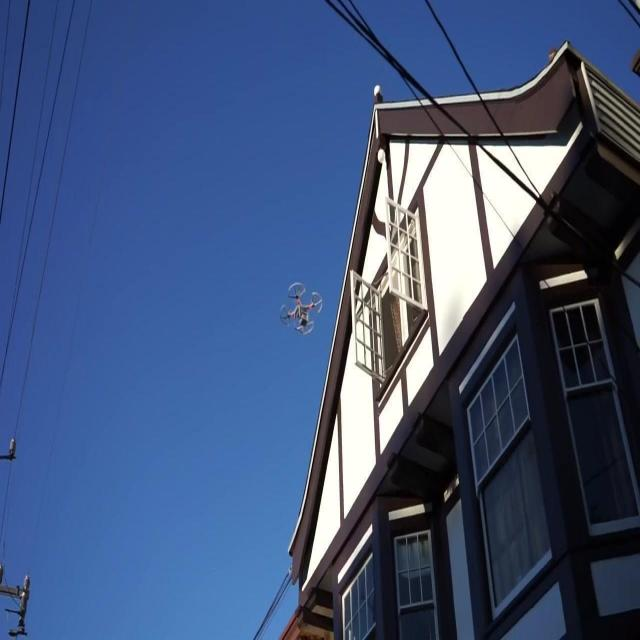UAV: (279, 282, 323, 336)
